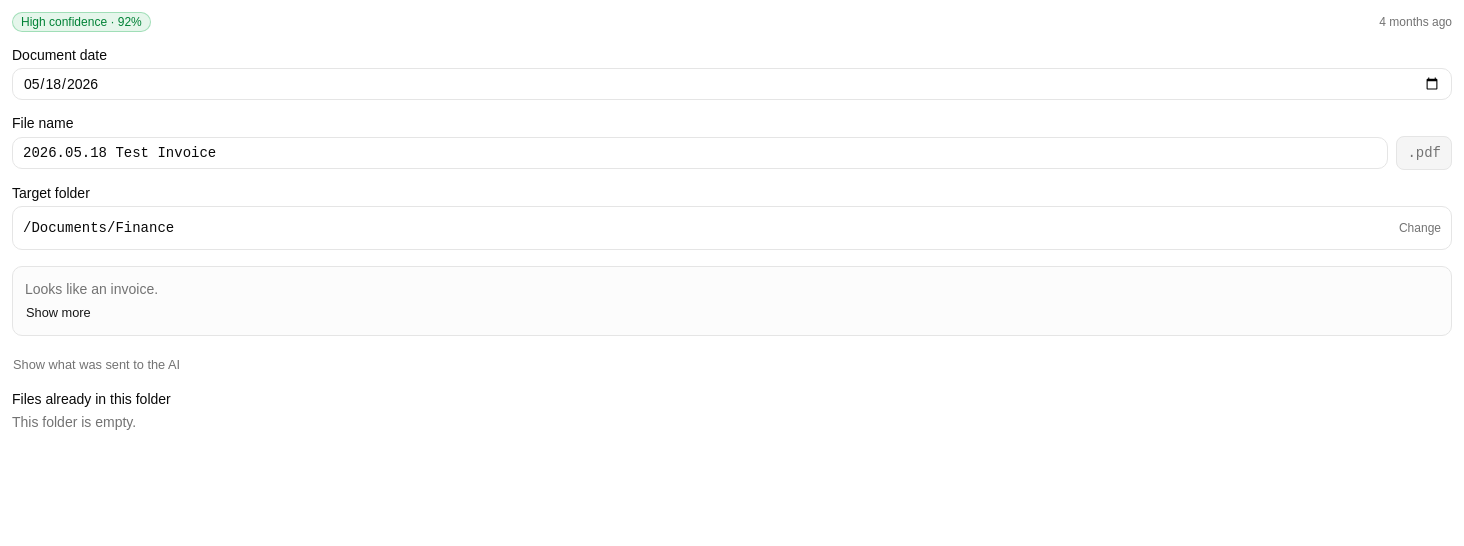
Test: ReviewForm › explains when the document-specific prompt wasn't recorded for an older proposal
Click the button "Show what was sent to the AI". click: (97, 365)
box: [12, 354, 181, 376]
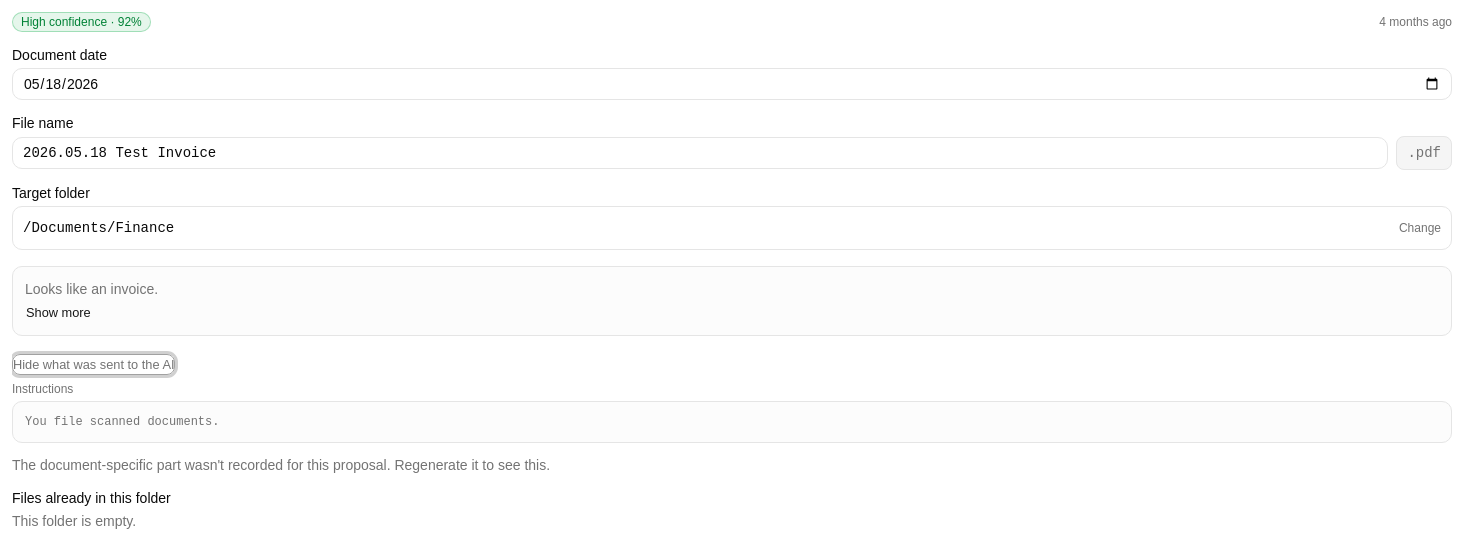
Expected: the text "wasn't recorded for this proposal" is shown, [12, 458, 550, 474]
